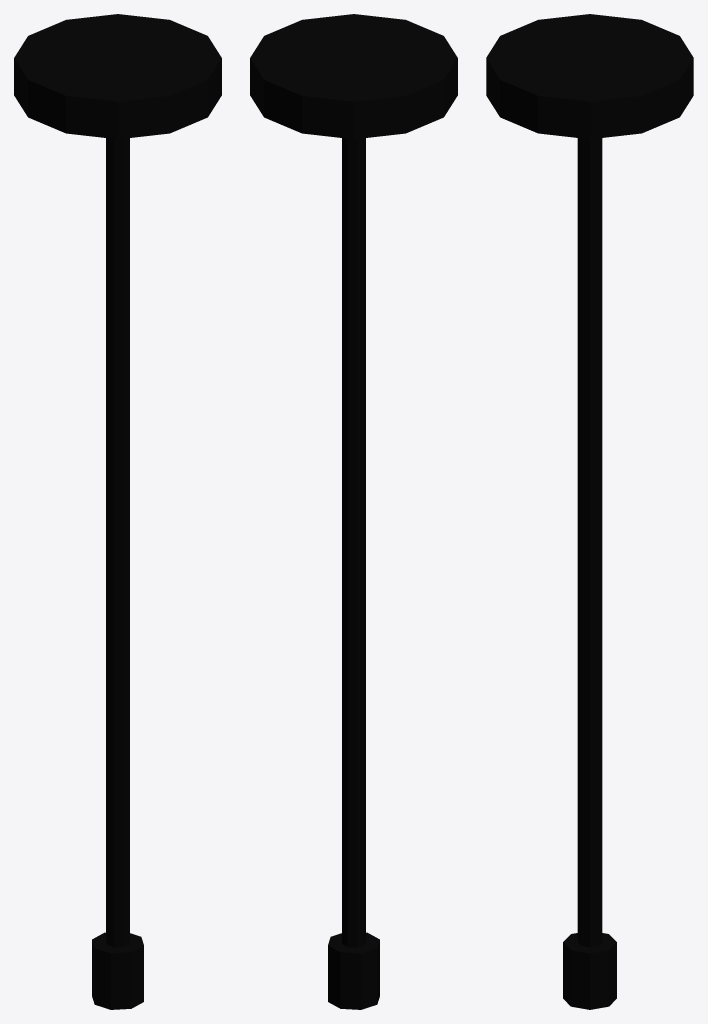
The model's file is SM_Build_Lichtschiene_Abhaenger.fbx.
3 renders of one model, left to right at view 1: azimuth 30°, elevation 25°; view 2: azimuth 150°, elevation 25°; view 3: azimuth 270°, elevation 25°, orthographic.
Visible parts, largest first — view 1: Lichtschiene_Abhaenger; view 2: Lichtschiene_Abhaenger; view 3: Lichtschiene_Abhaenger.
Boxes of the visible parts, bbox=[...] form: Lichtschiene_Abhaenger: bbox=[14, 14, 221, 1009]; Lichtschiene_Abhaenger: bbox=[250, 14, 457, 1009]; Lichtschiene_Abhaenger: bbox=[486, 14, 693, 1009].
Bounding box in the file's own units: 0.1 × 0.5 × 0.1.
